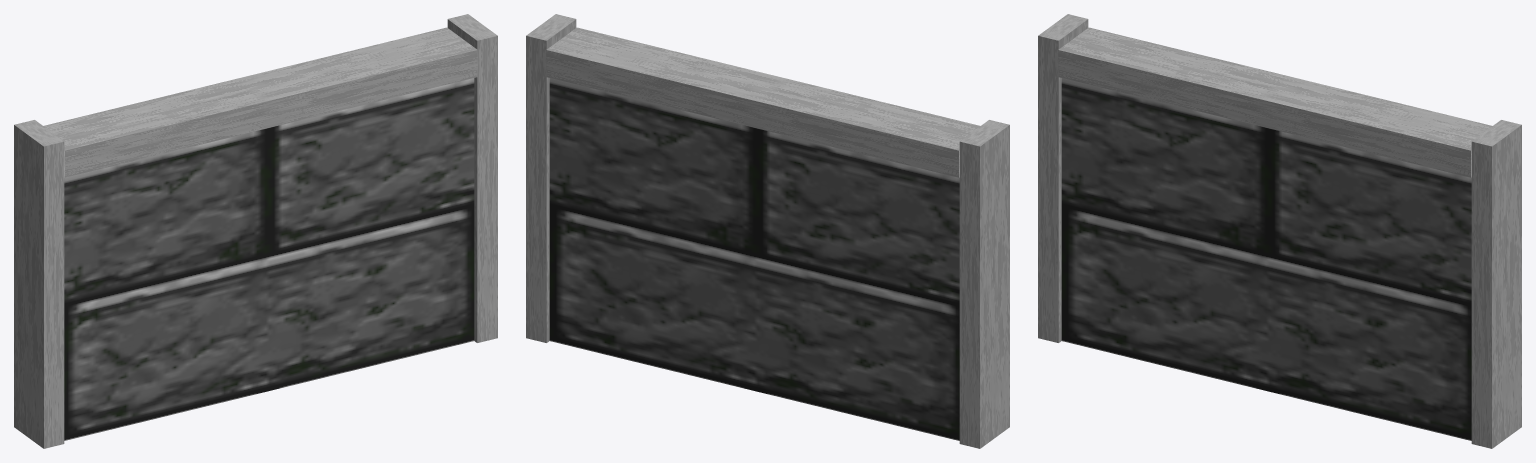
Rendered from wall.obj.
3 renders of one model, left to right at view 1: azimuth 30°, elevation 25°; view 2: azimuth 150°, elevation 25°; view 3: azimuth 330°, elevation 25°, orthographic.
Visible parts, largest first — view 1: Box001, Box002, Box004, Box003; view 2: Box001, Box002, Box004, Box003; view 3: Box001, Box002, Box003, Box004.
Part boxes in pixels (<box>): Box001: <box>64,78,474,440</box>; Box002: <box>43,27,477,177</box>; Box004: <box>14,120,64,448</box>; Box003: <box>447,14,497,342</box>; Box001: <box>549,78,959,440</box>; Box002: <box>546,27,980,177</box>; Box004: <box>959,120,1009,448</box>; Box003: <box>526,14,576,342</box>; Box001: <box>1061,78,1471,440</box>; Box002: <box>1058,27,1492,177</box>; Box003: <box>1471,120,1521,448</box>; Box004: <box>1038,14,1088,342</box>.
Bounding box in the file's own units: 86.61 × 55.12 × 10.16.
